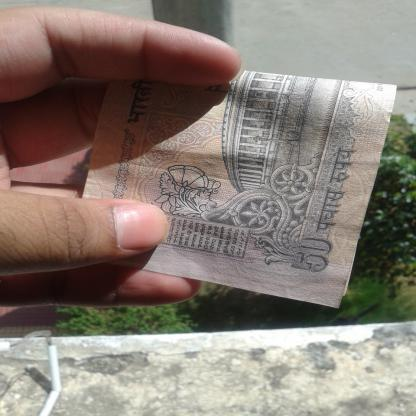Old50Back: (82, 69, 397, 310)
